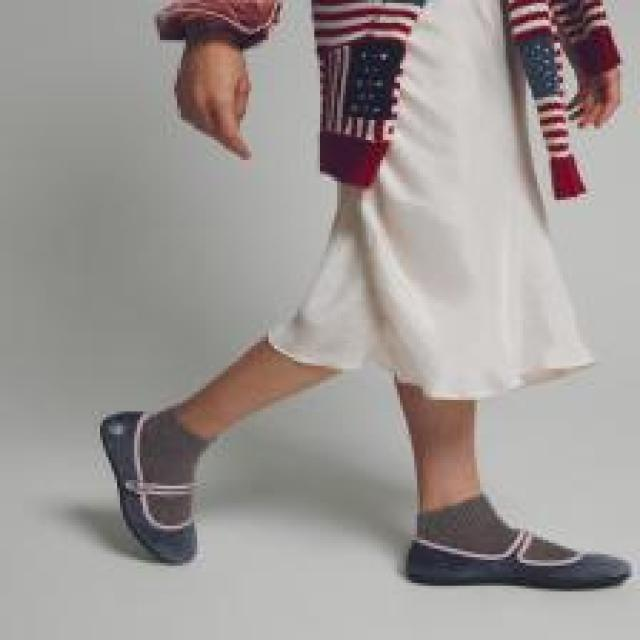shoe: (100, 412, 197, 565), (407, 531, 631, 591)
